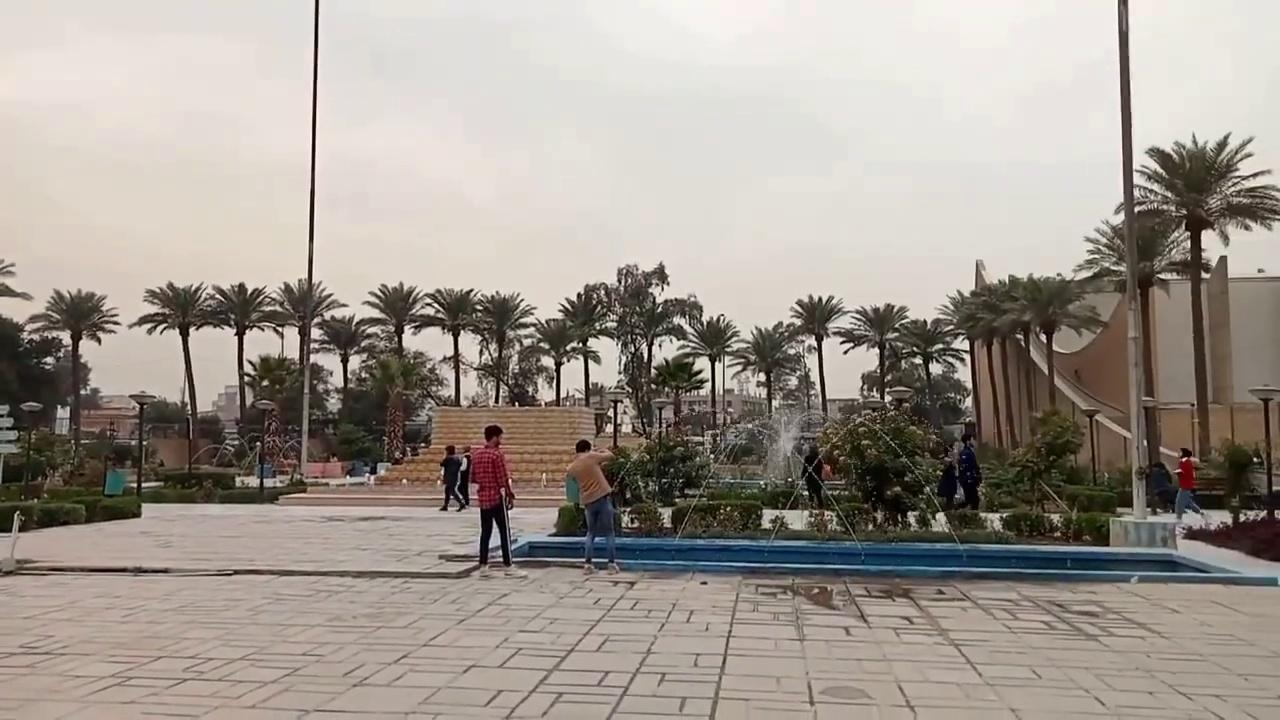fountain: (506, 395, 1265, 581), (661, 401, 970, 553), (759, 406, 805, 484)
person: (565, 438, 621, 575), (469, 424, 515, 568), (1172, 447, 1203, 518), (438, 444, 467, 511), (957, 433, 982, 510), (800, 443, 825, 510), (1146, 461, 1176, 513), (936, 443, 958, 511), (456, 444, 472, 508)
tree: (1111, 129, 1278, 460), (1073, 212, 1200, 467), (127, 279, 225, 469), (24, 286, 120, 469), (814, 400, 944, 530), (264, 276, 348, 475), (583, 260, 670, 434), (999, 271, 1106, 412), (982, 405, 1086, 532), (956, 275, 1030, 453), (360, 280, 428, 460), (1073, 213, 1211, 298), (935, 288, 1002, 449), (207, 280, 275, 430), (629, 292, 702, 429), (409, 286, 484, 406), (0, 314, 70, 433), (895, 315, 967, 429), (786, 292, 848, 417), (677, 313, 740, 433), (312, 312, 380, 423), (837, 301, 910, 402), (266, 276, 347, 367), (470, 290, 534, 405), (610, 261, 669, 381), (729, 321, 802, 417), (556, 287, 613, 406), (522, 316, 593, 406), (361, 280, 427, 359), (644, 355, 708, 434), (243, 351, 298, 404), (0, 257, 32, 301)
